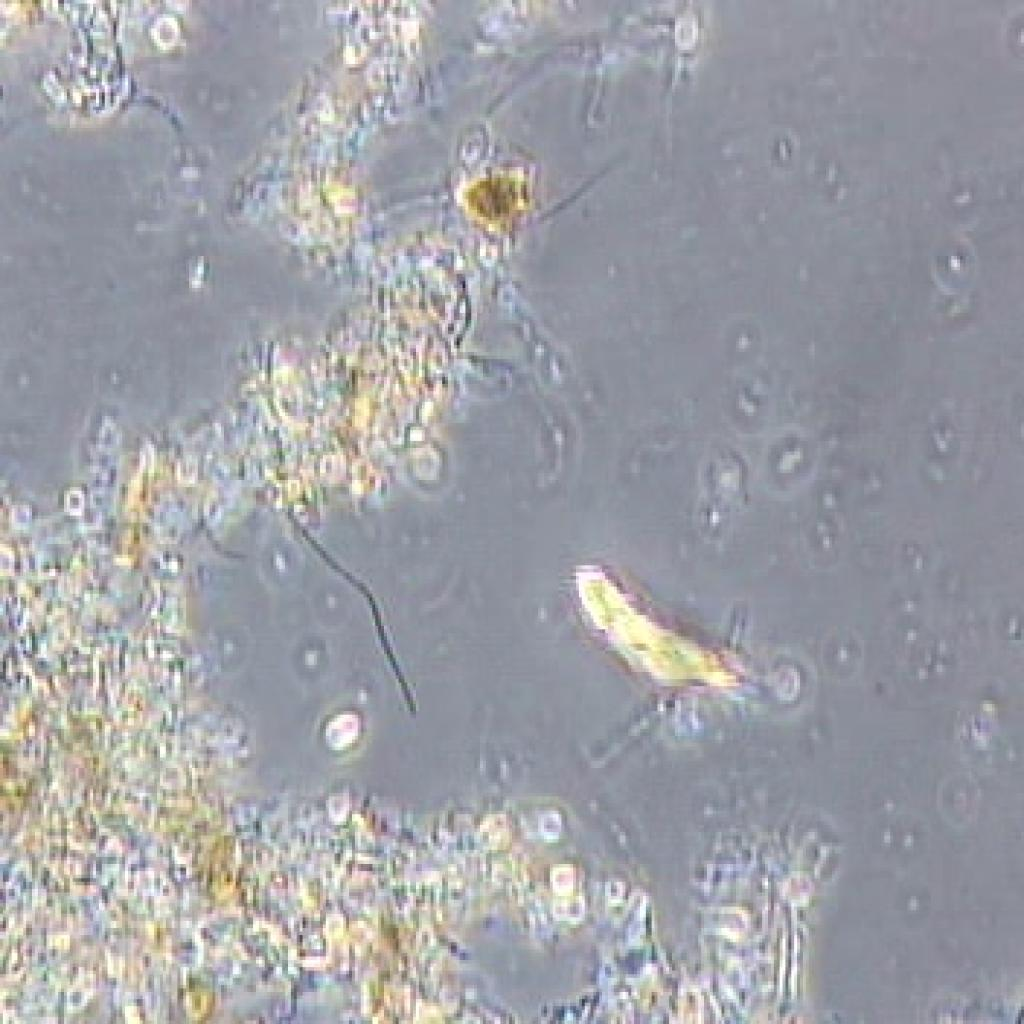Chaetonotus: (567, 544, 780, 722)
